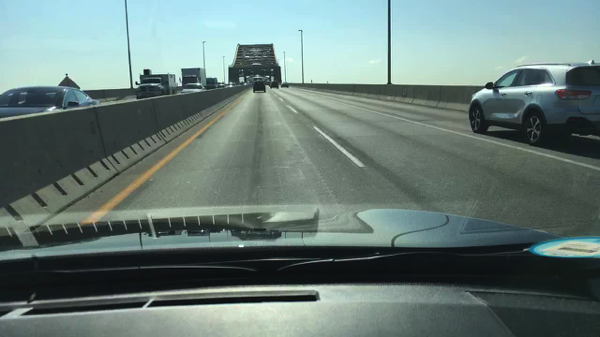car: (467, 60, 599, 148), (1, 85, 99, 119), (180, 83, 204, 93), (252, 80, 267, 93), (269, 81, 279, 89), (280, 81, 289, 88), (229, 82, 237, 88), (218, 82, 223, 88), (266, 81, 271, 86), (237, 82, 243, 86), (226, 83, 229, 89), (265, 81, 269, 85), (248, 81, 251, 86), (244, 82, 248, 85), (251, 81, 254, 85)
traffic sign: (58, 73, 80, 89)
truck: (134, 68, 177, 99), (179, 68, 207, 89), (206, 77, 218, 89)
